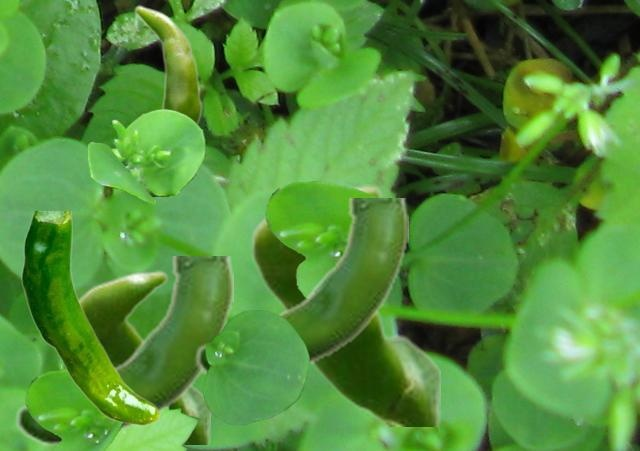green_chili: (250, 184, 439, 425), (14, 256, 232, 447), (194, 198, 407, 379), (21, 211, 159, 425), (78, 270, 209, 443), (133, 4, 202, 195)
